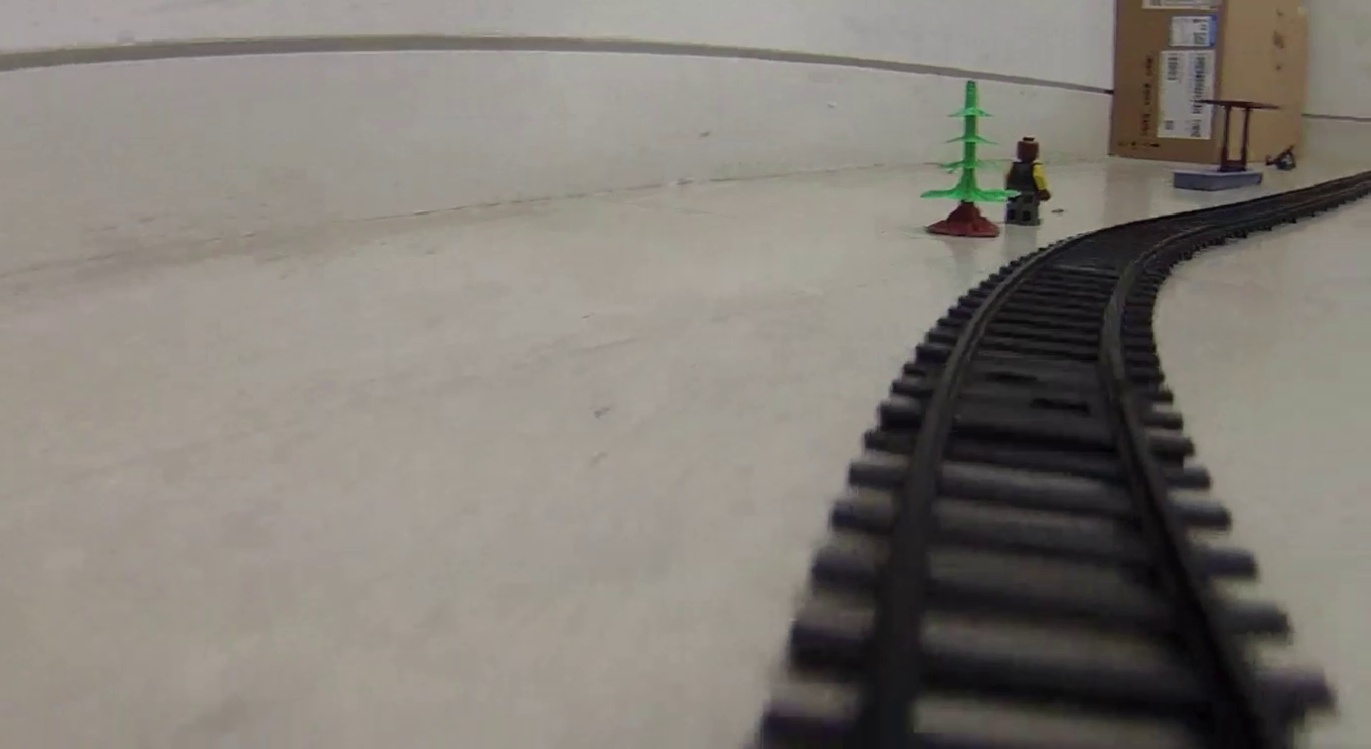people: (1004, 134, 1051, 227)
tree: (919, 81, 1011, 236)
